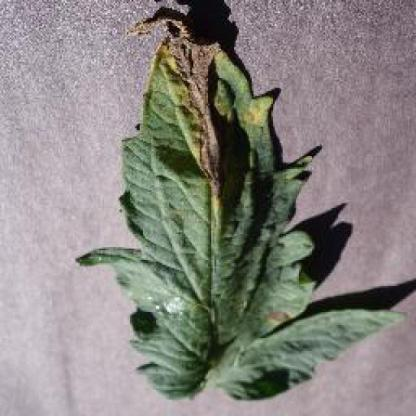Tomato_Blight: (74, 12, 403, 396)
